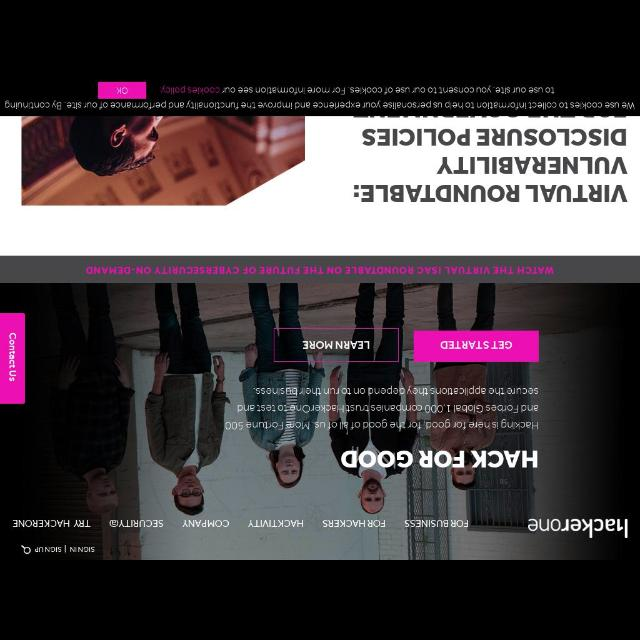backgroundimage: (1, 283, 639, 559)
icon: (21, 544, 31, 554)
image: (21, 115, 305, 208), (528, 516, 628, 538)
text: (351, 128, 627, 204), (225, 384, 540, 432), (2, 100, 634, 110), (86, 265, 556, 275), (342, 446, 538, 468), (158, 86, 554, 94), (11, 518, 90, 528), (440, 339, 514, 349), (301, 340, 371, 350), (404, 518, 470, 528), (323, 517, 385, 527), (247, 518, 305, 528), (110, 517, 164, 527), (7, 332, 17, 382), (182, 518, 228, 528), (70, 546, 96, 554), (34, 546, 62, 552), (114, 86, 130, 94)
textbutton: (274, 328, 400, 362), (416, 332, 538, 362), (1, 314, 25, 404), (97, 82, 147, 98)
